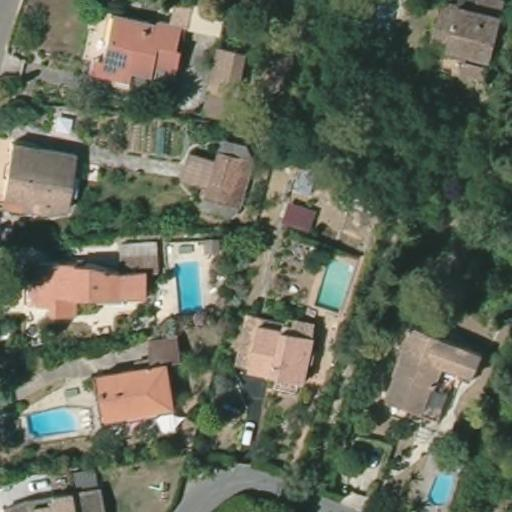pool: (167, 257, 208, 321), (315, 252, 353, 313), (25, 402, 85, 440), (425, 461, 457, 506)
